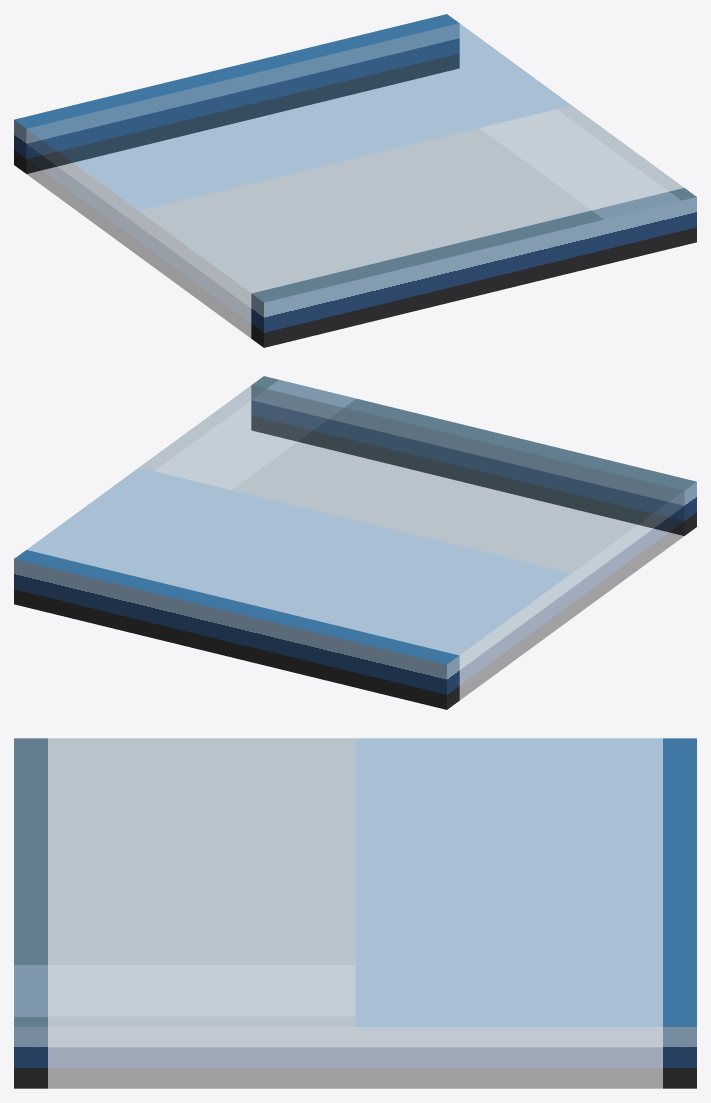
The model's file is glass_table_top_straight.glb.
3 renders of one model, top to bottom at view 1: azimuth 30°, elevation 25°; view 2: azimuth 150°, elevation 25°; view 3: azimuth 270°, elevation 25°, orthographic. The views are drawn at different scales.
Parts seen in each view (by area): view 1: glass_table_top_straight; view 2: glass_table_top_straight; view 3: glass_table_top_straight.
Boxes of the visible parts, x1,y1,x2,y2 form: glass_table_top_straight: [14, 14, 696, 347]; glass_table_top_straight: [14, 376, 696, 709]; glass_table_top_straight: [14, 738, 696, 1088].
Size of the model in its own units: 0.9 by 0.09 by 0.9.
2 materials, 2 textured.
